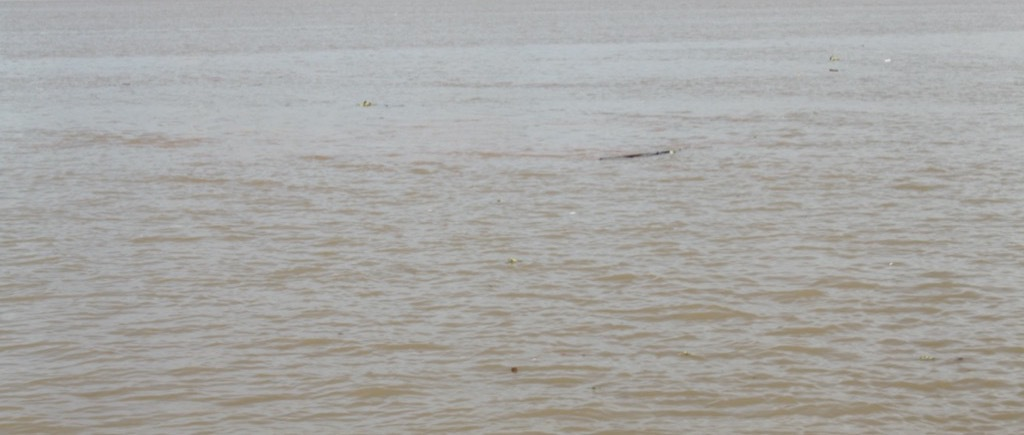organic: (587, 140, 684, 166), (913, 345, 968, 368), (350, 93, 407, 112), (820, 61, 851, 81), (501, 358, 525, 380), (499, 252, 526, 270), (329, 323, 349, 341), (824, 49, 848, 63), (490, 193, 507, 207)
plastic: (554, 199, 594, 230), (866, 47, 910, 75)
